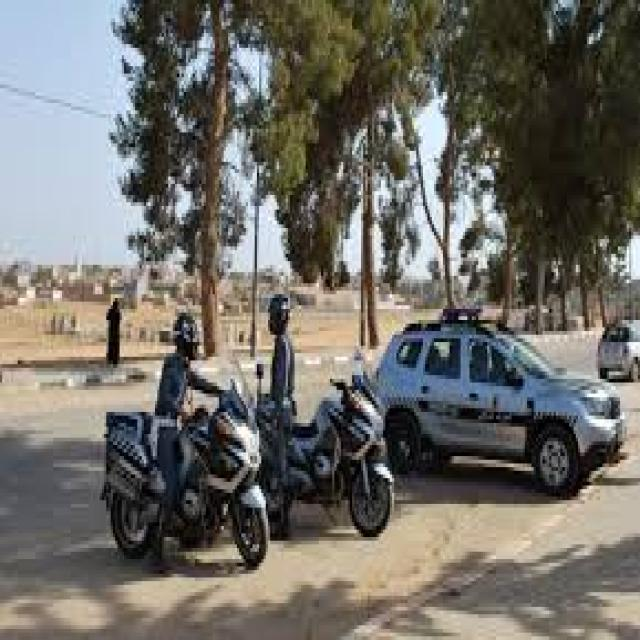gendarme car: (368, 298, 629, 502)
